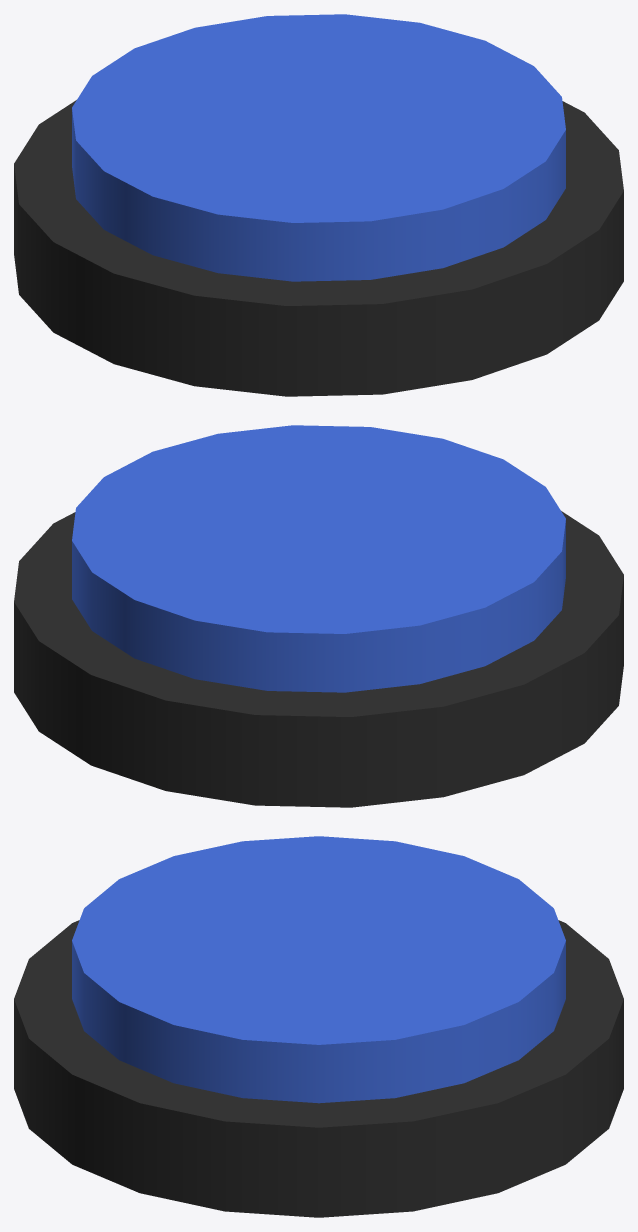
Rendered from Button_Blue.fbx.
3 renders of one model, top to bottom at view 1: azimuth 30°, elevation 25°; view 2: azimuth 150°, elevation 25°; view 3: azimuth 270°, elevation 25°, orthographic.
Visible parts, largest first — view 1: Cylinder.001, Cylinder; view 2: Cylinder.001, Cylinder; view 3: Cylinder.001, Cylinder.
Boxes of the visible parts, <box> form: Cylinder.001: <box>72,14,565,281</box>; Cylinder: <box>14,100,623,396</box>; Cylinder.001: <box>72,425,565,692</box>; Cylinder: <box>14,511,623,807</box>; Cylinder.001: <box>72,836,565,1103</box>; Cylinder: <box>14,920,623,1217</box>.
Bounding box in the file's own units: 178 × 47.76 × 178.
